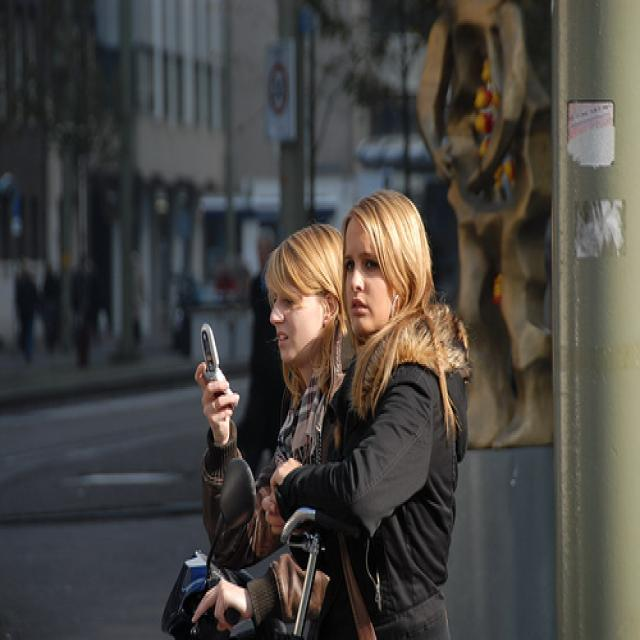motor: (160, 459, 358, 640)
